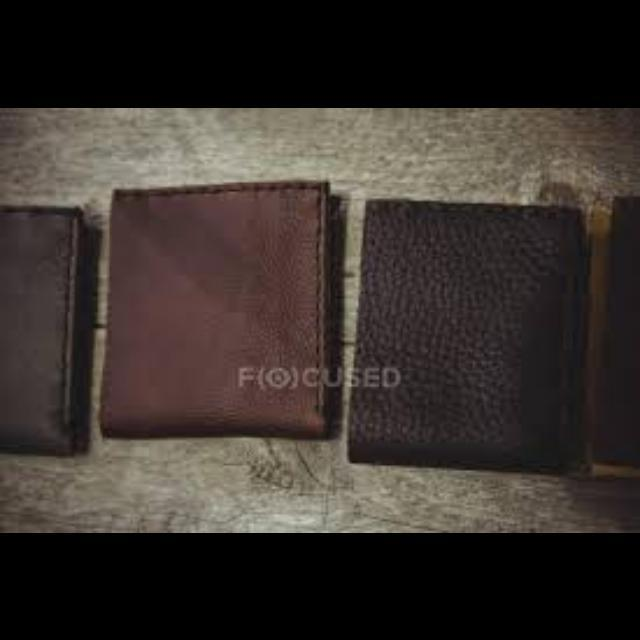Wallet: (358, 182, 588, 470), (102, 170, 334, 422)
